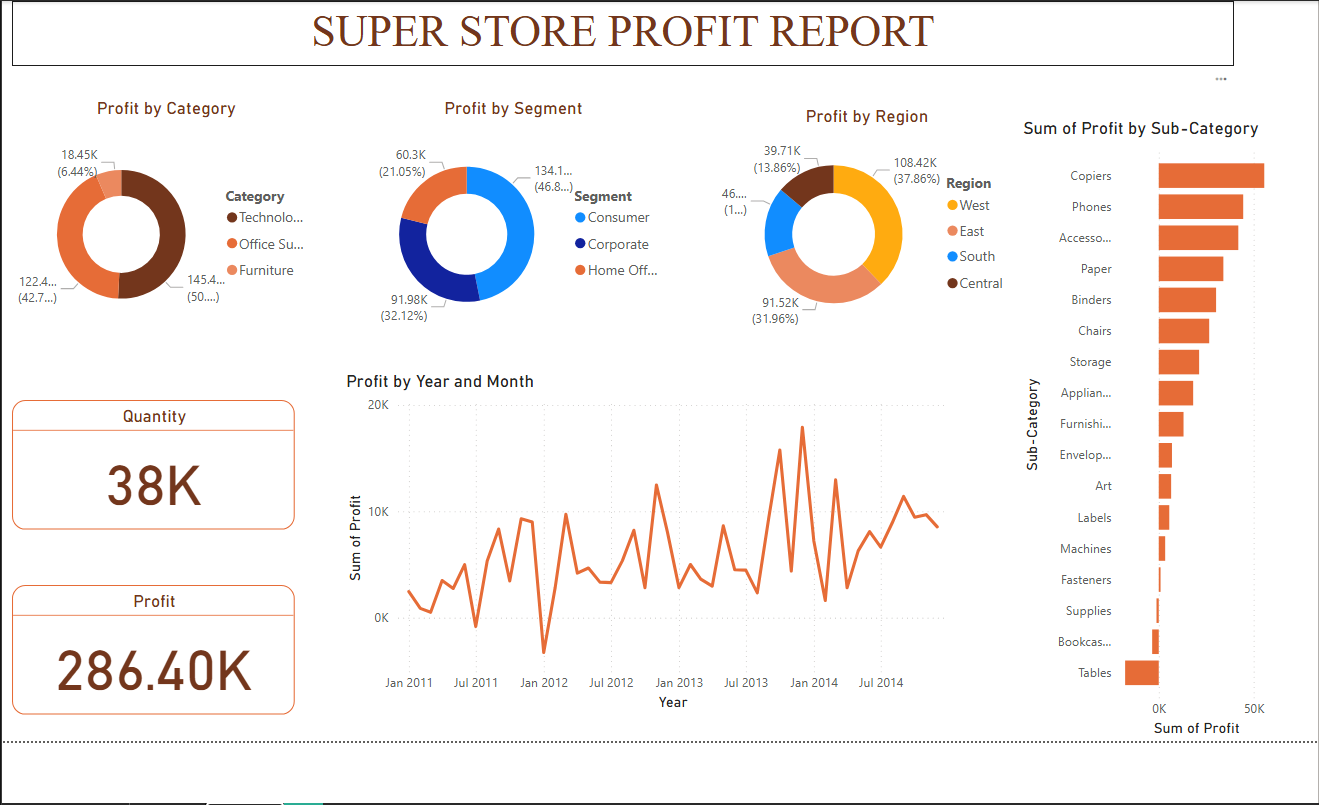

What the dashboard file says about the page in this screenshot:
{"tool":"powerbi","page":{"name":"Page 2","canvas":[1280,720],"ordinal":1},"visuals":[{"type":"textbox","box":[9.7,0,1188.6,63.2],"z":0},{"type":"card","title":"Quantity","fields":{"Values":["Sum(Orders.Quantity)"]},"box":[9.7,388.1,275.3,126.4],"z":1000},{"type":"donutChart","title":" Profit by Segment","fields":{"Y":["Sum(Orders.Profit)"],"Category":["Orders.Segment"]},"box":[342.4,94.3,310.3,246.1],"z":2000},{"type":"donutChart","title":" Profit by Region","fields":{"Y":["Sum(Orders.Profit)"],"Category":["Orders.Region"]},"box":[694.5,102.1,293.7,230.5],"z":3000},{"type":"lineChart","title":"Profit by Year and Month","fields":{"Category":["Orders.Order Date.Variation.Date Hierarchy.Year","Orders.Order Date.Variation.Date Hierarchy.Month"],"Y":["Sum(Orders.Profit)"]},"box":[329.7,359.9,606.9,334.6],"z":4000},{"type":"donutChart","title":" Profit by Category","fields":{"Category":["Orders.Category"],"Y":["Sum(Orders.Profit)"]},"box":[9.7,94.3,300.5,246.1],"z":5000},{"type":"barChart","title":" Profit by Sub-Category","fields":{"Category":["Orders.Sub-Category"],"Y":["Sum(Orders.Profit)"]},"box":[988.2,113.8,262.6,606],"z":6000},{"type":"card","title":"Profit","fields":{"Values":["Sum(Orders.Profit)"]},"box":[9.7,568,275.3,126.4],"z":7000}]}

Visuals, with their boxes on the page's 1280x720 design canvas (x1, y1, x2, y2). These are canvas units, not pixel positions in the 1319x805 screenshot, which may show the page scaled, cropped or inside an application window:
textbox: {"left": 10, "top": 0, "right": 1198, "bottom": 63}
"Quantity" card: {"left": 10, "top": 388, "right": 285, "bottom": 514}
" Profit by Segment" donutChart: {"left": 342, "top": 94, "right": 653, "bottom": 340}
" Profit by Region" donutChart: {"left": 694, "top": 102, "right": 988, "bottom": 333}
"Profit by Year and Month" lineChart: {"left": 330, "top": 360, "right": 937, "bottom": 694}
" Profit by Category" donutChart: {"left": 10, "top": 94, "right": 310, "bottom": 340}
" Profit by Sub-Category" barChart: {"left": 988, "top": 114, "right": 1251, "bottom": 720}
"Profit" card: {"left": 10, "top": 568, "right": 285, "bottom": 694}
